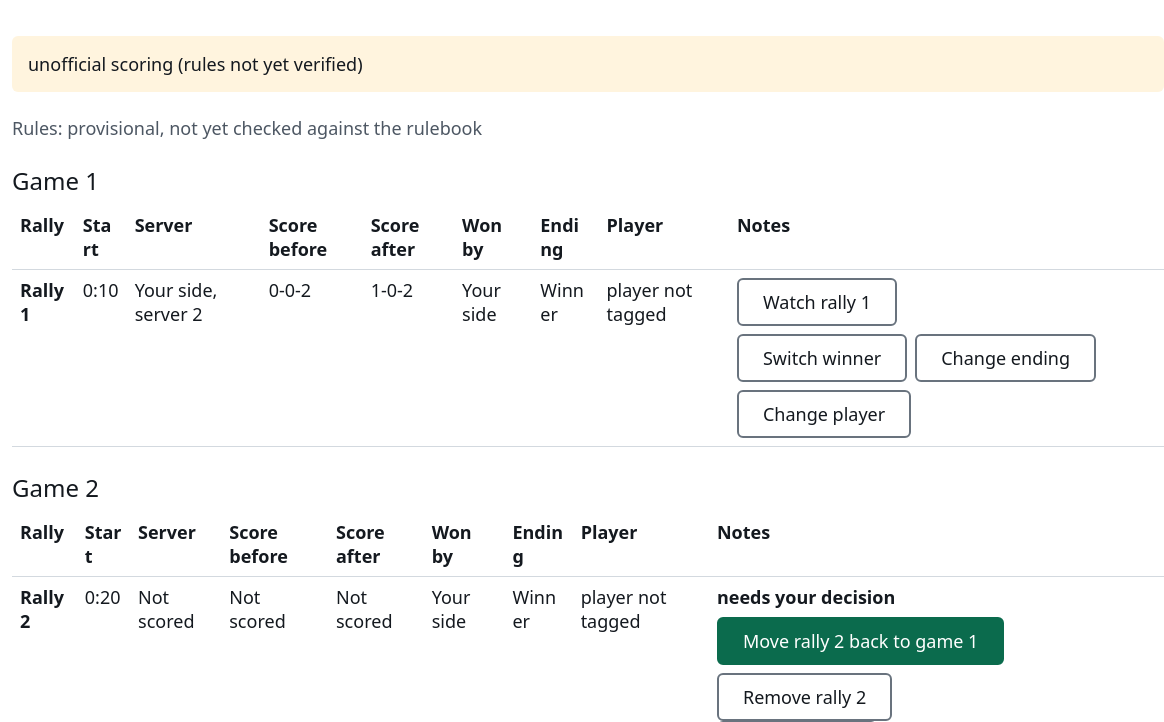
Test: BE-RV1-FE-01 (c): C-03, a rally of game 2 while game 1 is not over › moving back sends move_to_previous_game and says where the rally went
This screenshot has width=1164, height=722.
Click the button "Move rally 2 back to game 1".
click(861, 641)  # box 717,617 -> 1004,665
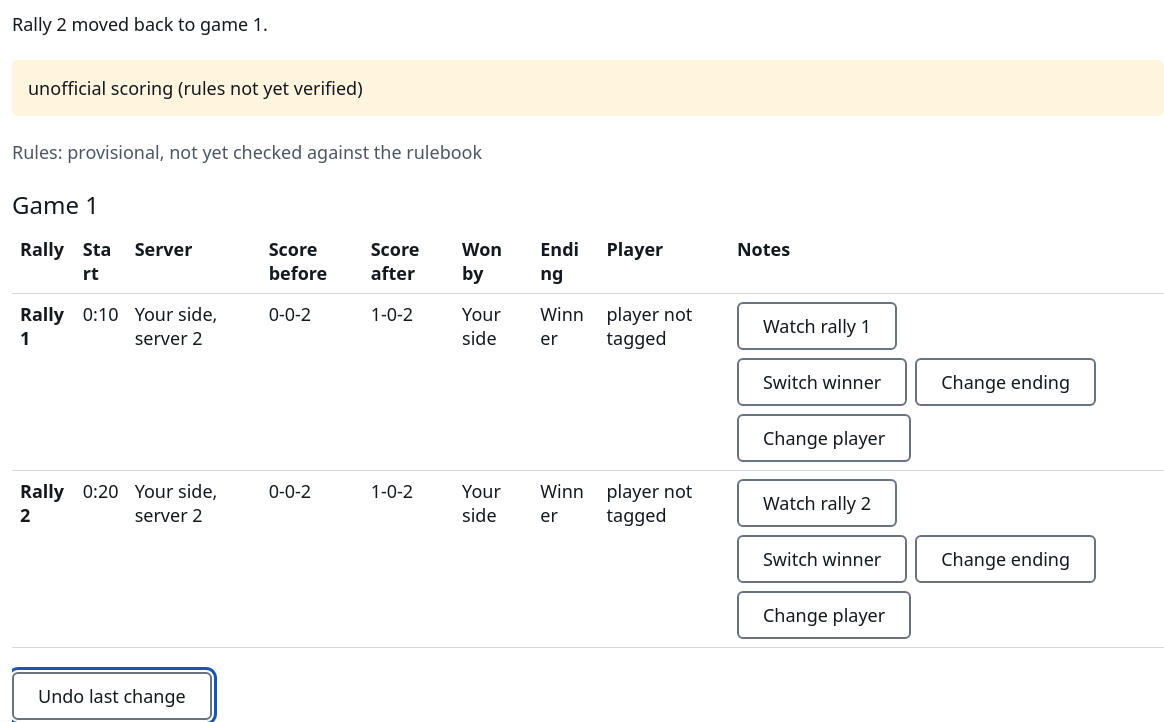
Check: the message reads "Rally 2 moved back to game 1.", box 12,12 -> 268,36
